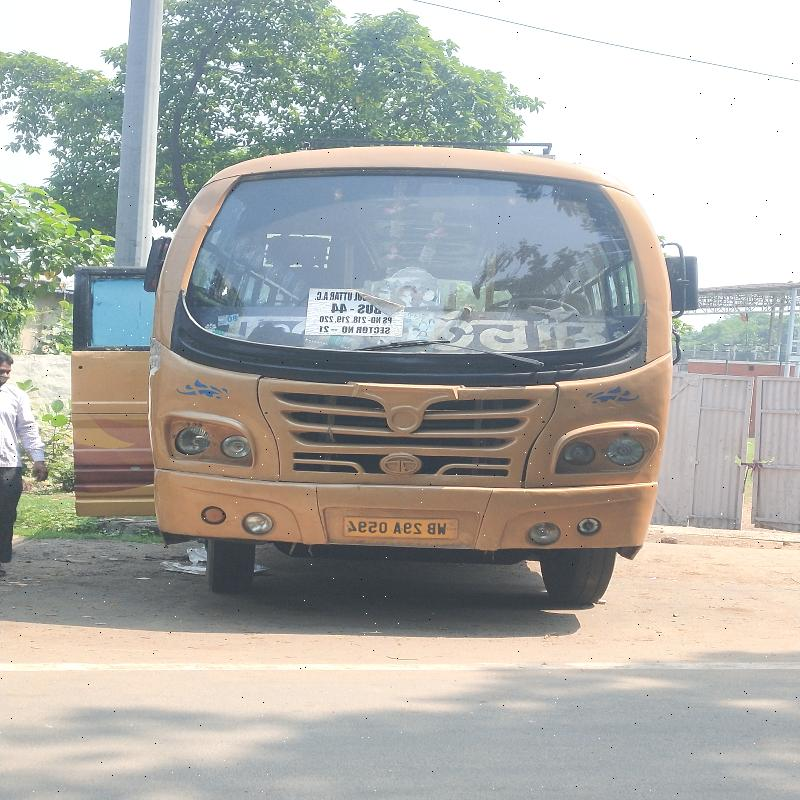bus: (75, 147, 670, 577)
